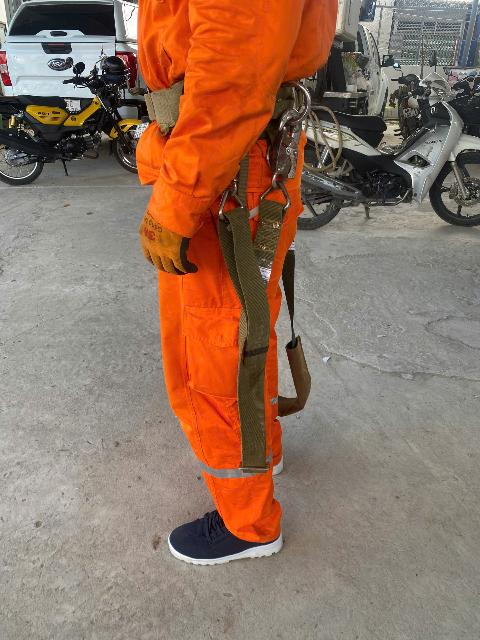gloves: (128, 195, 206, 278)
harness: (125, 75, 340, 156)
shoes: (152, 498, 292, 580)
